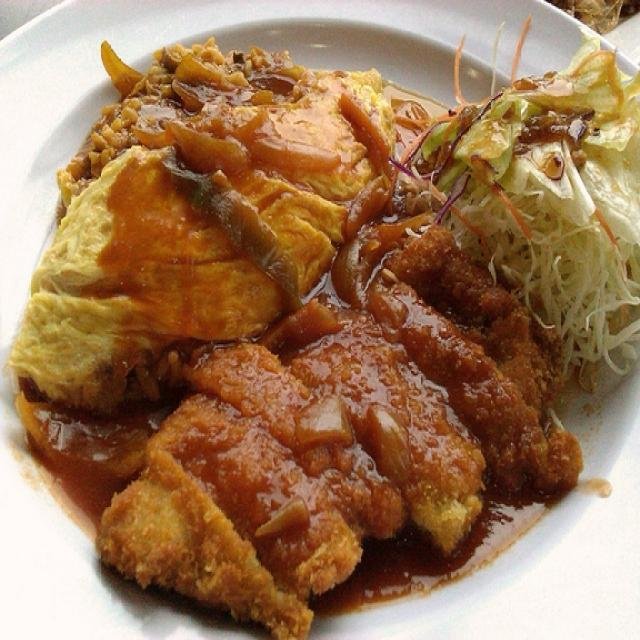鸡肉料理 含炸鸡: (20, 20, 606, 620)
